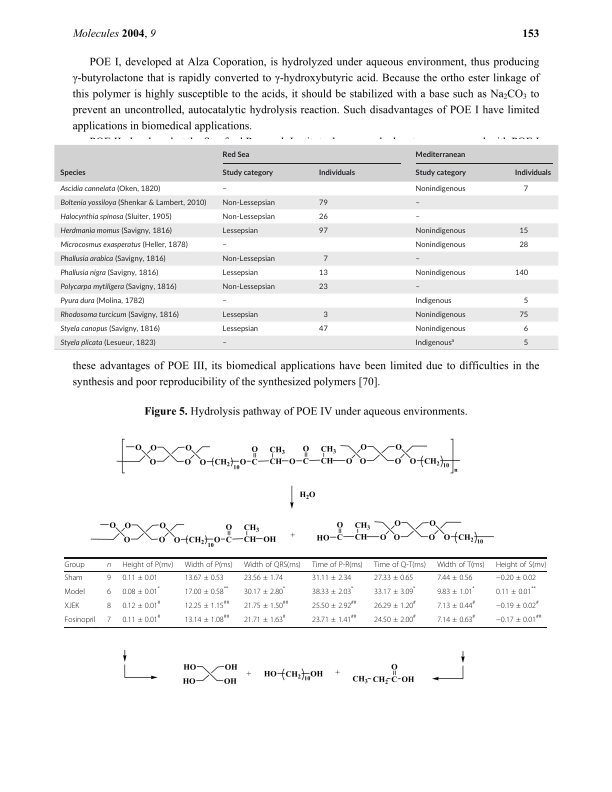borderless: (52, 144, 559, 351), (64, 556, 547, 627)
cell: (59, 197, 206, 209), (59, 239, 188, 251), (59, 309, 179, 321), (59, 281, 177, 293), (59, 211, 172, 223), (59, 225, 172, 237), (59, 253, 166, 265), (59, 183, 160, 195), (59, 323, 160, 335), (59, 267, 158, 279), (59, 337, 156, 349), (59, 295, 144, 307), (414, 148, 465, 161), (221, 197, 275, 209), (221, 211, 275, 223), (221, 253, 275, 265), (221, 281, 275, 293), (221, 167, 273, 179), (414, 167, 466, 179), (414, 183, 466, 195), (414, 225, 466, 237), (414, 239, 466, 251), (414, 267, 466, 279), (414, 309, 466, 321), (414, 323, 466, 335), (243, 560, 302, 569), (414, 336, 454, 349), (495, 613, 542, 624), (184, 599, 230, 610), (243, 599, 289, 610), (311, 599, 357, 610), (184, 613, 230, 624), (311, 613, 357, 624), (184, 585, 229, 596), (495, 599, 540, 610), (373, 560, 427, 569), (373, 599, 417, 610), (243, 613, 287, 624), (373, 613, 417, 624), (121, 560, 174, 569), (311, 560, 364, 569), (243, 585, 286, 596), (311, 585, 354, 596), (373, 585, 416, 596), (495, 560, 547, 569), (495, 585, 537, 596), (414, 295, 452, 307), (436, 560, 486, 569), (221, 225, 258, 237), (221, 267, 258, 279), (221, 309, 258, 321), (221, 323, 258, 335), (184, 560, 233, 569), (121, 585, 161, 596), (436, 585, 476, 596), (121, 599, 161, 610), (436, 599, 476, 610), (121, 613, 161, 624), (436, 613, 476, 624), (495, 573, 537, 582), (221, 148, 250, 161), (184, 573, 225, 582), (243, 573, 284, 582), (311, 573, 352, 582), (373, 573, 414, 582), (121, 573, 159, 582), (436, 573, 473, 582), (59, 167, 86, 179), (317, 169, 355, 177), (513, 169, 551, 177), (64, 615, 96, 624), (64, 587, 86, 596), (64, 560, 85, 569), (64, 573, 83, 582), (64, 601, 80, 610), (317, 197, 328, 209), (317, 211, 328, 223), (317, 225, 328, 237), (513, 270, 528, 277), (317, 270, 328, 277), (317, 284, 328, 291), (317, 326, 328, 333), (522, 323, 528, 335), (518, 228, 528, 235), (518, 242, 528, 249), (518, 312, 528, 319), (106, 573, 112, 582), (106, 587, 112, 596), (106, 601, 112, 610), (106, 615, 112, 624), (221, 186, 227, 193), (522, 186, 528, 193), (414, 200, 420, 207), (414, 214, 420, 221), (221, 242, 227, 249), (322, 256, 328, 263), (414, 256, 420, 263), (414, 284, 420, 291), (221, 298, 227, 305), (522, 298, 528, 305), (322, 312, 328, 319), (221, 340, 227, 347), (522, 340, 528, 347), (106, 562, 112, 568)
